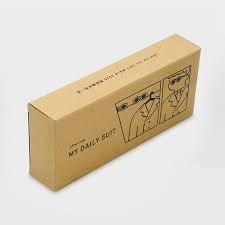box: (26, 32, 201, 193)
